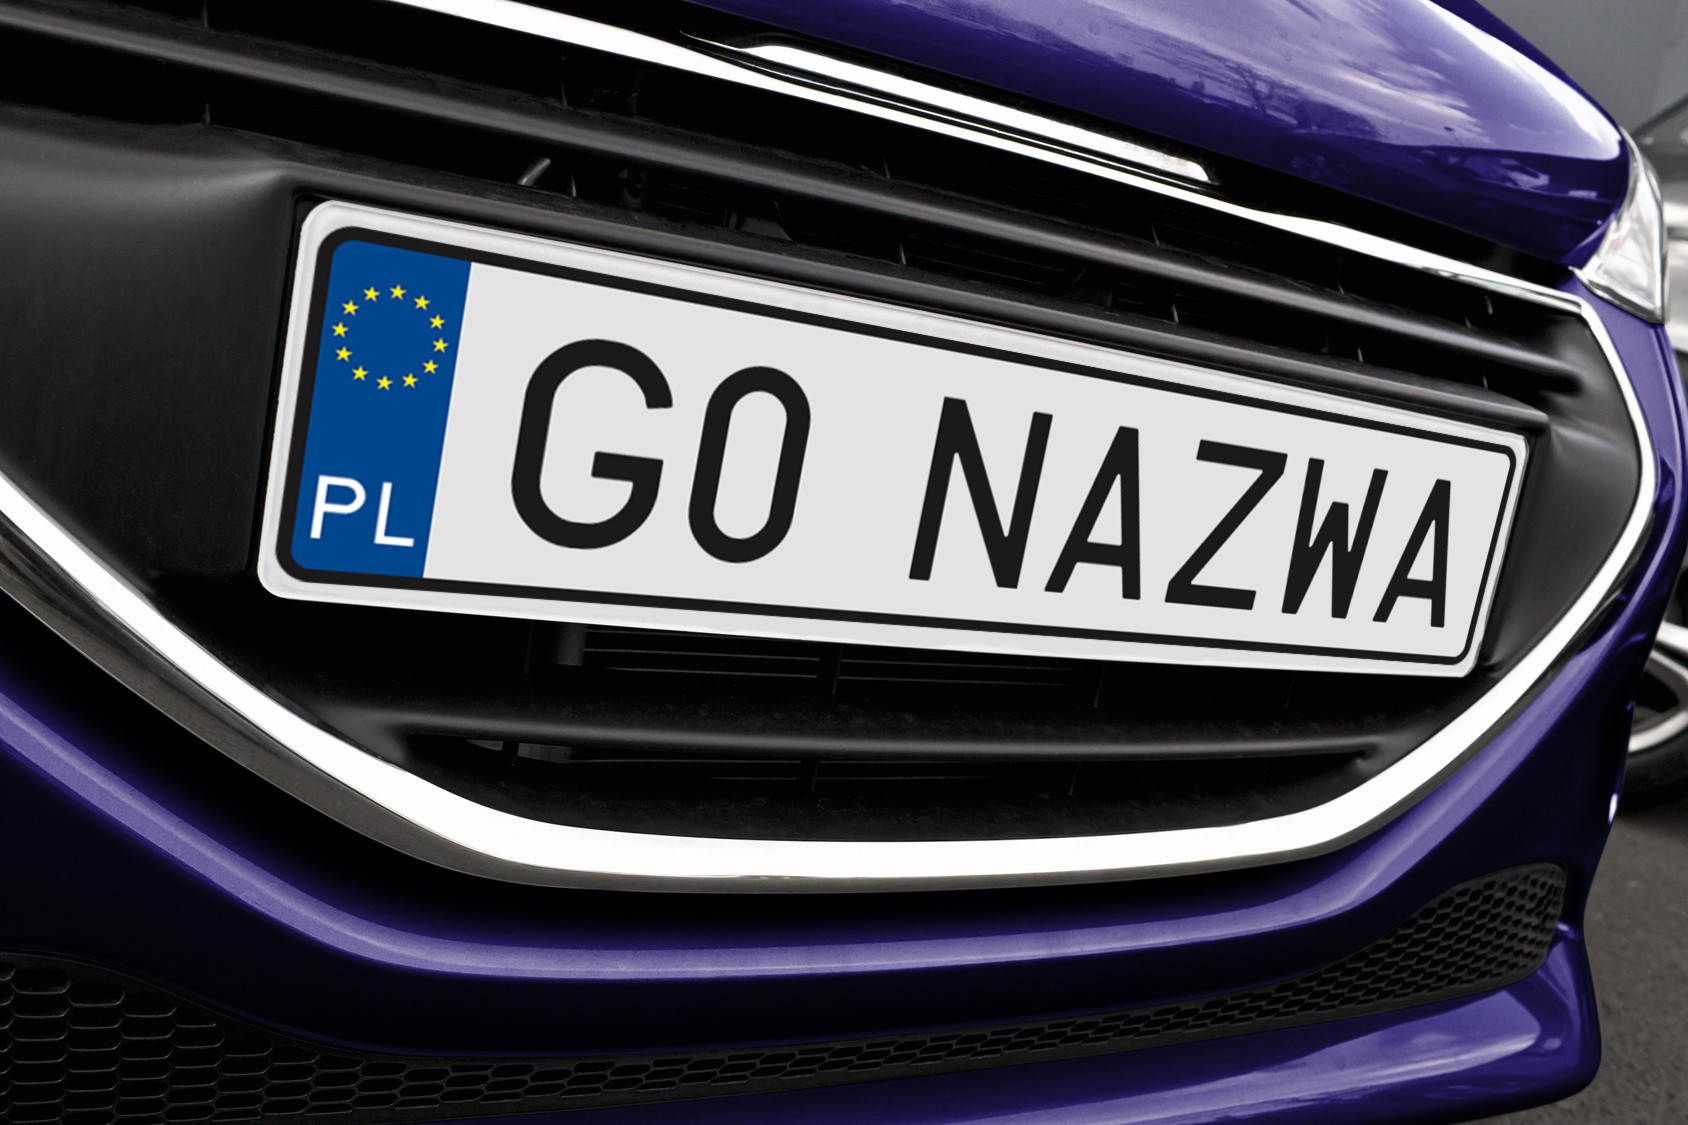number_plate: (251, 198, 1526, 793)
